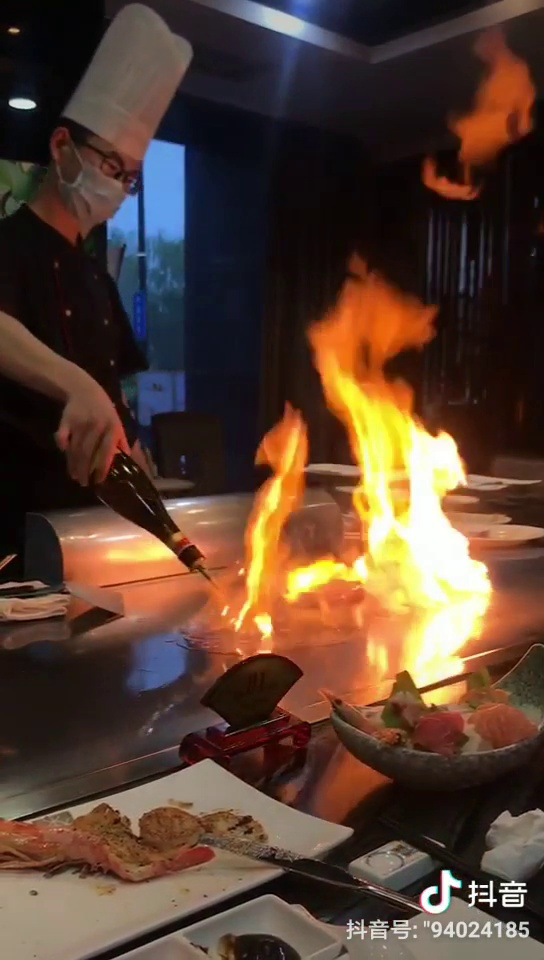fire: (299, 280, 478, 596)
